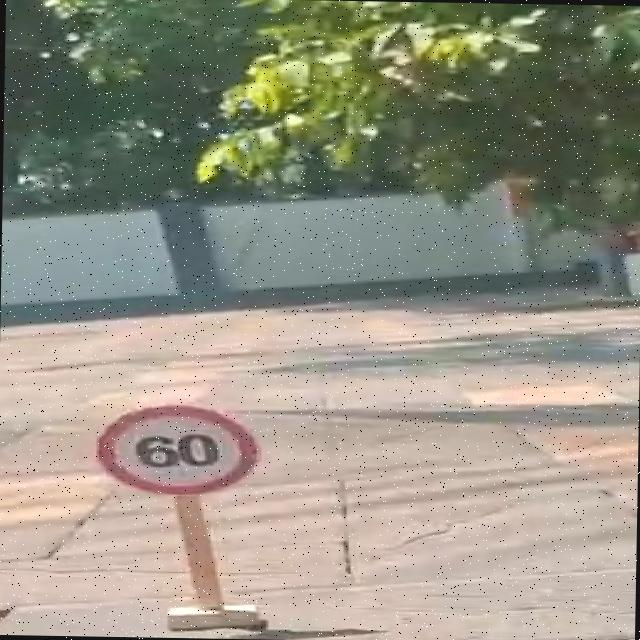Speed60: (68, 392, 285, 512)
